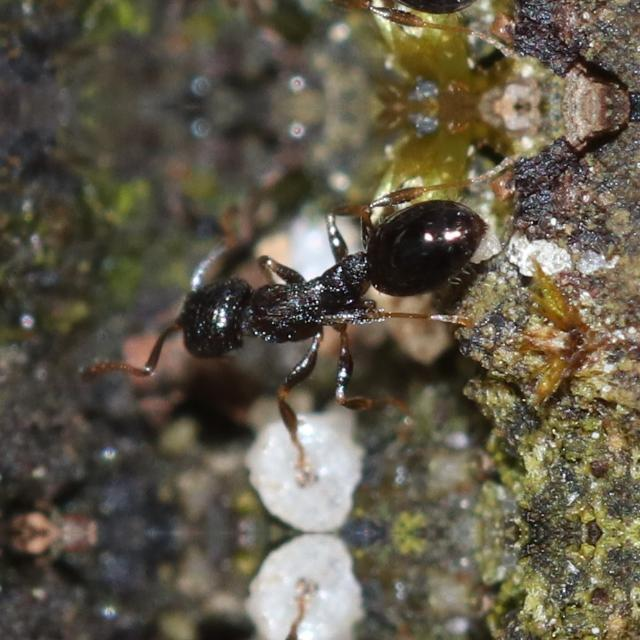Temnothorax: (131, 158, 525, 396), (131, 0, 525, 54)
